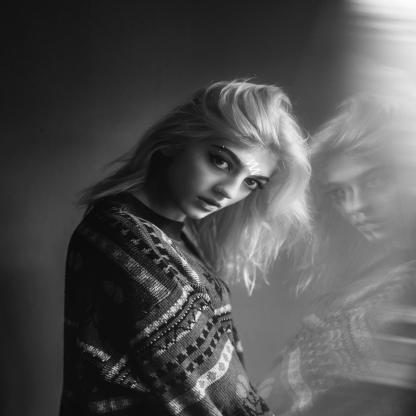Eye: (206, 151, 233, 174), (365, 174, 393, 191), (330, 186, 353, 201), (242, 177, 262, 193)
Mouth: (354, 217, 392, 232), (196, 195, 222, 211)
Nose: (213, 175, 243, 199), (352, 186, 377, 213)
